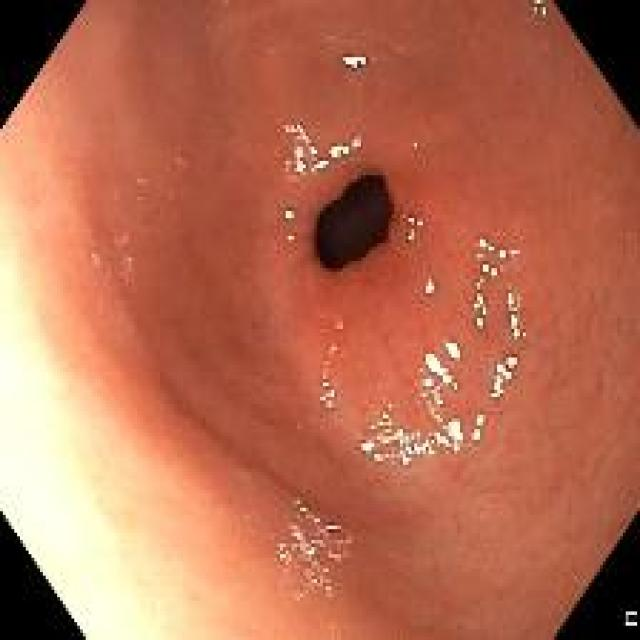bubbles: (401, 229, 416, 243), (87, 253, 101, 268), (122, 255, 137, 269)
contrast: (315, 173, 394, 272)
saturation: (0, 196, 174, 638), (171, 492, 219, 638)
specularity: (391, 428, 446, 464), (424, 350, 459, 389), (491, 355, 518, 399), (503, 291, 527, 339), (468, 276, 488, 330), (417, 387, 446, 422), (358, 437, 385, 466), (289, 145, 310, 176), (448, 419, 465, 456), (319, 380, 338, 408), (283, 123, 311, 141), (443, 342, 464, 362), (342, 53, 367, 68), (329, 142, 352, 158), (472, 416, 485, 439), (423, 279, 439, 297), (479, 261, 499, 274), (495, 244, 509, 261), (477, 238, 493, 252), (311, 159, 329, 170), (295, 496, 308, 511), (307, 145, 319, 159), (408, 217, 423, 228), (282, 208, 295, 220), (284, 233, 297, 243), (351, 136, 361, 148), (325, 522, 339, 529)
